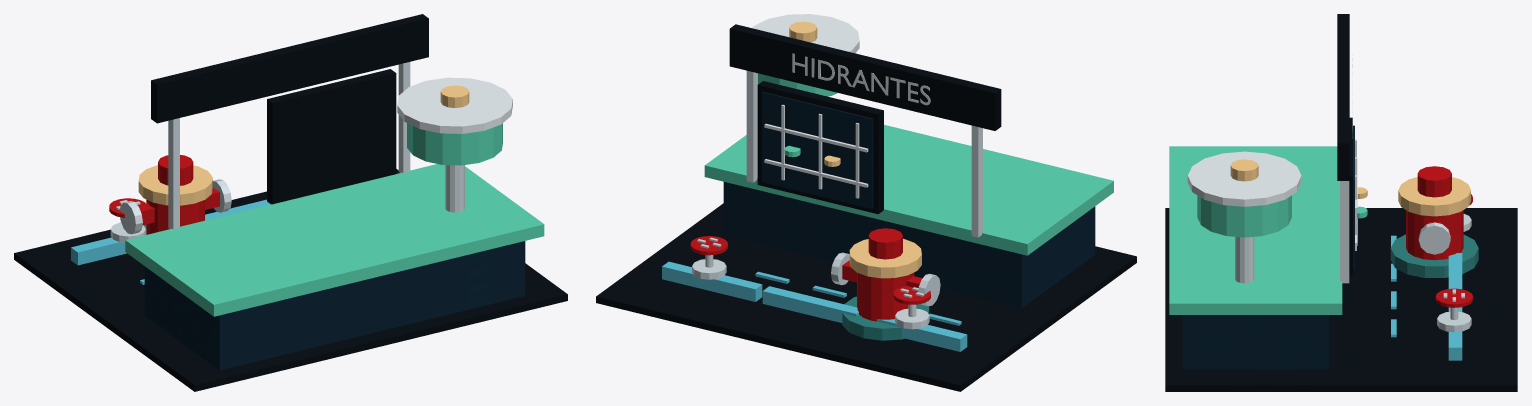
Rendered from hidrantes-station.glb.
3 renders of one model, left to right at view 1: azimuth 30°, elevation 25°; view 2: azimuth 150°, elevation 25°; view 3: azimuth 270°, elevation 25°, orthographic. The views are drawn at different scales.
Visible parts, largest first — view 1: Batch_Hidrantes_ROOT_JD_navy, Batch_Hidrantes_ROOT_JD_mint, WaterworksMain, Batch_Hidrantes_ROOT_JD_white, Batch_Hidrantes_ROOT_JD_chrome, Batch_Hidrantes_ROOT_JD_amber, Batch_Hidrantes_ROOT_JD_cyan, Batch_Hidrantes_ROOT_JD_red_bright, HeroHydrantBody; view 2: Batch_Hidrantes_ROOT_JD_navy, Batch_Hidrantes_ROOT_JD_mint, WaterworksMain, HydrantMapBoardScreen, Batch_Hidrantes_ROOT_JD_cyan, Batch_Hidrantes_ROOT_JD_white, Batch_Hidrantes_ROOT_JD_chrome, Batch_Hidrantes_ROOT_JD_amber, Batch_Hidrantes_ROOT_JD_red_bright, HeroHydrantBody, HeroHydrantFoot; view 3: Batch_Hidrantes_ROOT_JD_navy, Batch_Hidrantes_ROOT_JD_mint, WaterworksMain, Batch_Hidrantes_ROOT_JD_white, Batch_Hidrantes_ROOT_JD_chrome, Batch_Hidrantes_ROOT_JD_amber, HeroHydrantFoot, HeroHydrantBody, Batch_Hidrantes_ROOT_JD_red_bright, Batch_Hidrantes_ROOT_JD_cyan.
Boxes of the visible parts, box(x1,y1,x2,y2) form: Batch_Hidrantes_ROOT_JD_navy: box(14, 14, 567, 391); Batch_Hidrantes_ROOT_JD_mint: box(125, 123, 544, 316); WaterworksMain: box(144, 241, 525, 370); Batch_Hidrantes_ROOT_JD_white: box(397, 77, 512, 133); Batch_Hidrantes_ROOT_JD_chrome: box(110, 62, 464, 242); Batch_Hidrantes_ROOT_JD_amber: box(138, 85, 469, 205); Batch_Hidrantes_ROOT_JD_cyan: box(71, 199, 270, 284); Batch_Hidrantes_ROOT_JD_red_bright: box(109, 155, 219, 224); HeroHydrantBody: box(146, 199, 204, 234); Batch_Hidrantes_ROOT_JD_navy: box(596, 24, 1136, 391); Batch_Hidrantes_ROOT_JD_mint: box(704, 73, 1113, 255); WaterworksMain: box(723, 182, 1095, 307); HydrantMapBoardScreen: box(762, 92, 873, 208); Batch_Hidrantes_ROOT_JD_cyan: box(662, 261, 967, 351); Batch_Hidrantes_ROOT_JD_white: box(752, 14, 930, 198); Batch_Hidrantes_ROOT_JD_chrome: box(692, 70, 982, 329); Batch_Hidrantes_ROOT_JD_amber: box(789, 21, 921, 278); Batch_Hidrantes_ROOT_JD_red_bright: box(690, 228, 930, 304); HeroHydrantBody: box(857, 272, 914, 321); HeroHydrantFoot: box(842, 296, 929, 340); Batch_Hidrantes_ROOT_JD_navy: box(1165, 14, 1517, 391); Batch_Hidrantes_ROOT_JD_mint: box(1169, 146, 1367, 314); WaterworksMain: box(1182, 315, 1328, 369); Batch_Hidrantes_ROOT_JD_white: box(1187, 54, 1357, 250); Batch_Hidrantes_ROOT_JD_chrome: box(1235, 181, 1471, 332); Batch_Hidrantes_ROOT_JD_amber: box(1230, 159, 1470, 216); HeroHydrantFoot: box(1390, 234, 1478, 277); HeroHydrantBody: box(1406, 210, 1463, 260); Batch_Hidrantes_ROOT_JD_red_bright: box(1417, 166, 1472, 307); Batch_Hidrantes_ROOT_JD_cyan: box(1391, 235, 1462, 360).
Bounding box in the file's own units: 10.5 × 6.19 × 8.8.
Materials: 9 (3 with a texture image).
